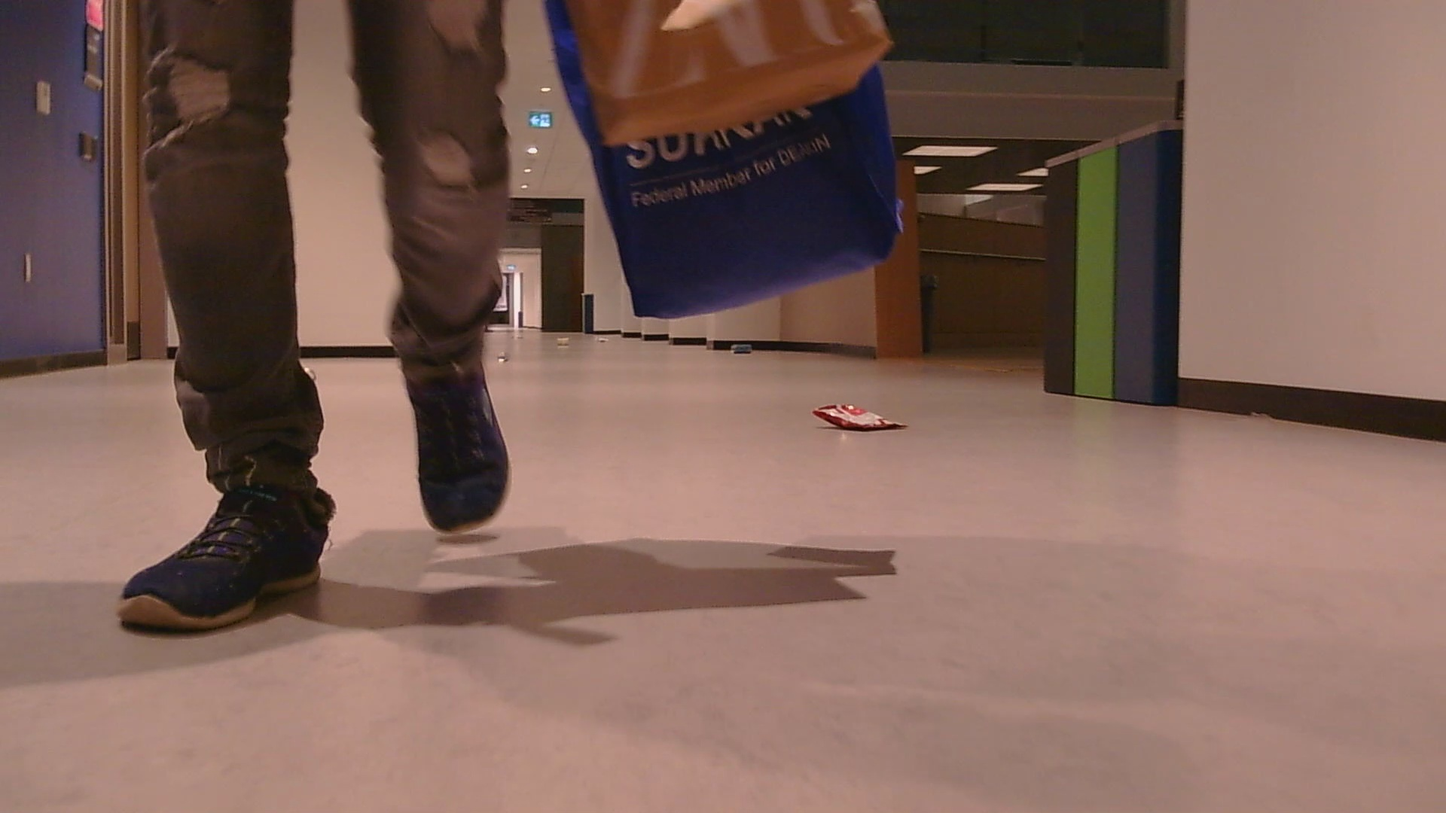carton: (797, 385, 906, 451)
